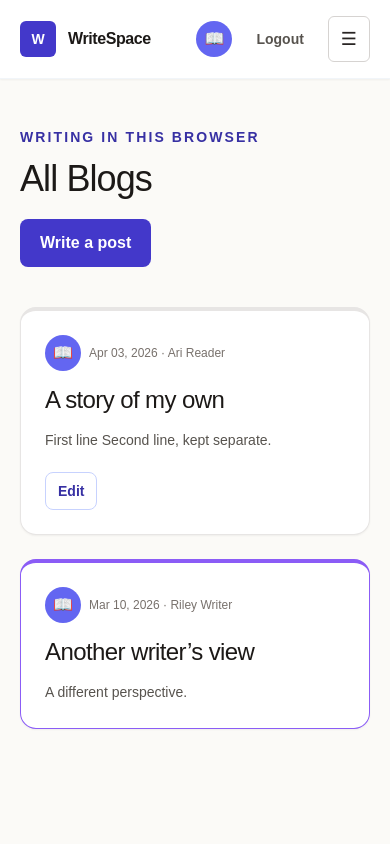
Test case: authenticated blog reading › opens the mobile navigation menu and exposes authenticated page links
What coordinates should you click on to do the following:
click the button named "Open navigation menu"
I would click on:
 (349, 39)
Its box is left=328, top=16, right=370, bottom=62.
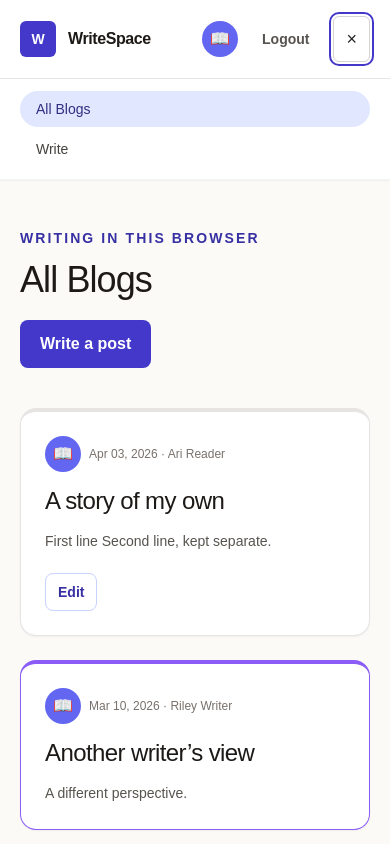
Expected: the button named "Close navigation menu" is expanded, left=334, top=16, right=370, bottom=62
Expected: the number of links "All Blogs" is 2
Expected: the number of links "Write" is 2
